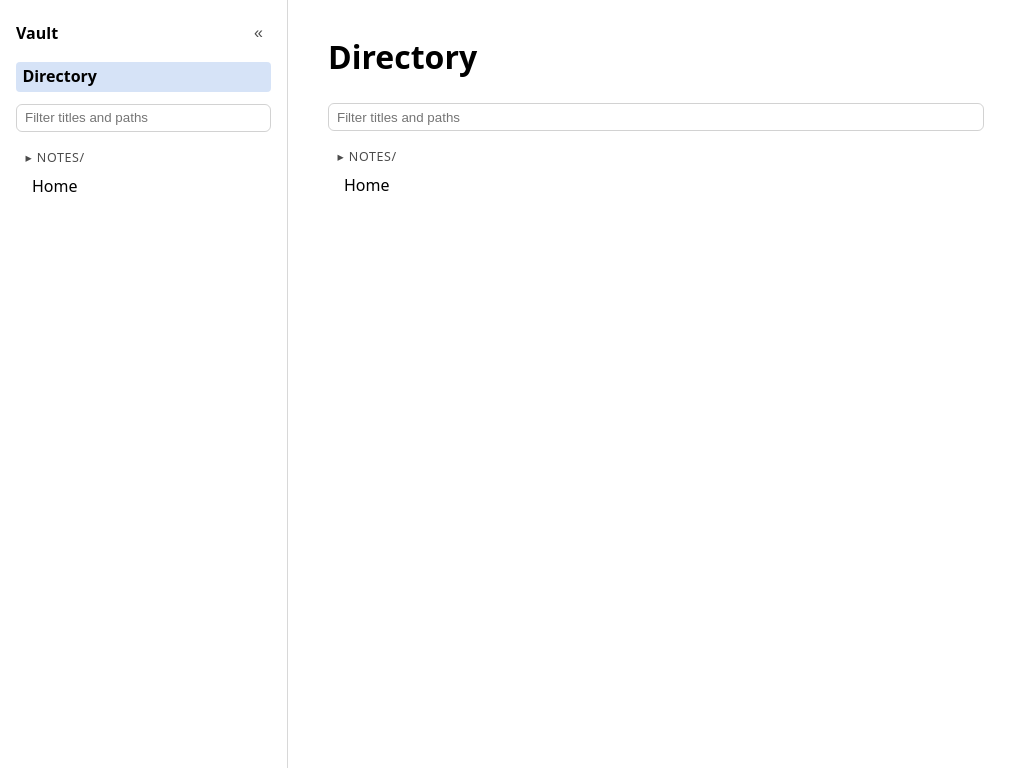
Test: App › renders directory.json as the sidebar tree, with its own search, at /directory/
Expected: the heading "Directory" is shown, [328,35,477,78]
Expected: the 2nd heading "notes/" is shown, [349,148,397,165]
In the search field named "Filter documents": (656, 117) [328,103,984,131], type "other-note"
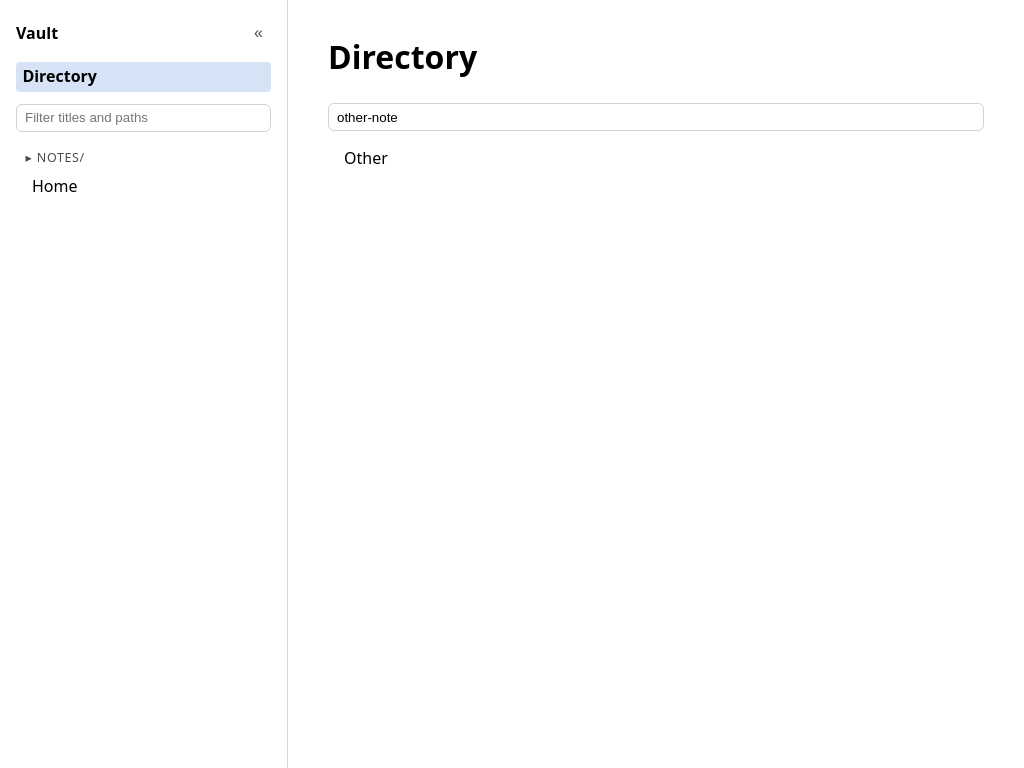
Expected: the link "Home" is shown, [32,174,78,196]
Now the link "Other" has attribute title="notes/other-note.md", box [344,147,388,169]
